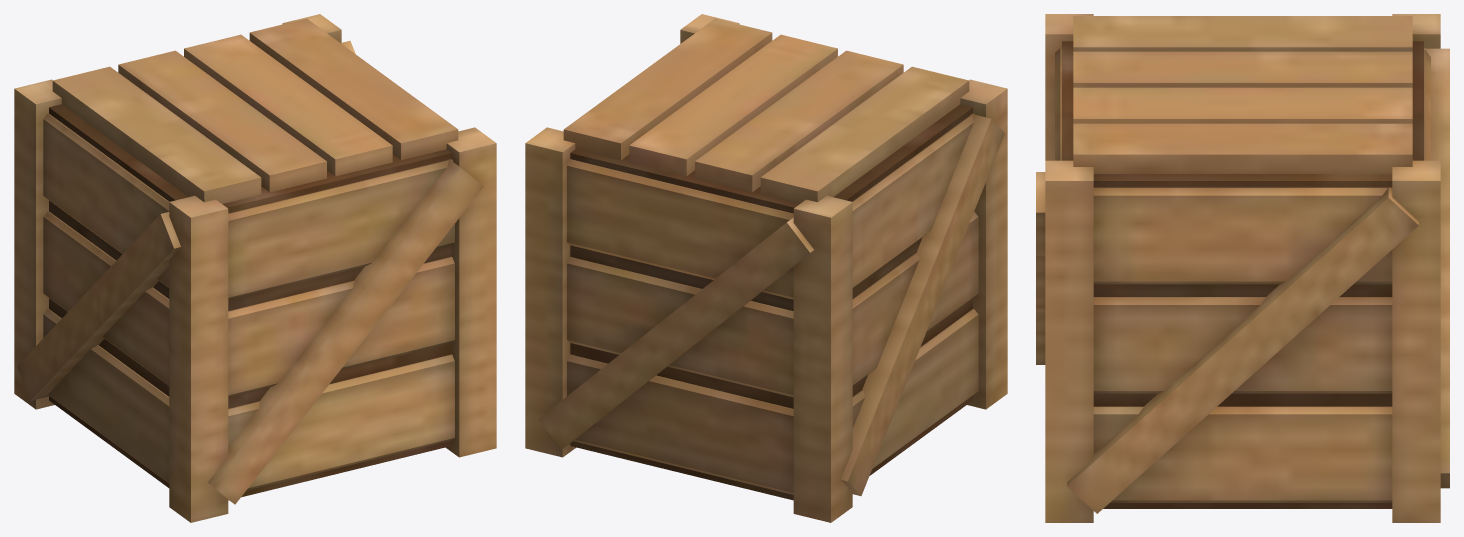
The model's file is crate_0_7.glb.
3 renders of one model, left to right at view 1: azimuth 30°, elevation 25°; view 2: azimuth 150°, elevation 25°; view 3: azimuth 270°, elevation 25°, orthographic. The views are drawn at different scales.
Parts seen in each view (by area): view 1: box; view 2: box; view 3: box.
Boxes of the visible parts, x1=… form: box: x1=14, y1=14, x2=496, y2=522; box: x1=525, y1=14, x2=1007, y2=522; box: x1=1036, y1=14, x2=1449, y2=522.
Bounding box in the file's own units: 0.768 × 0.725 × 0.768.
Materials: 1 (1 with a texture image).
